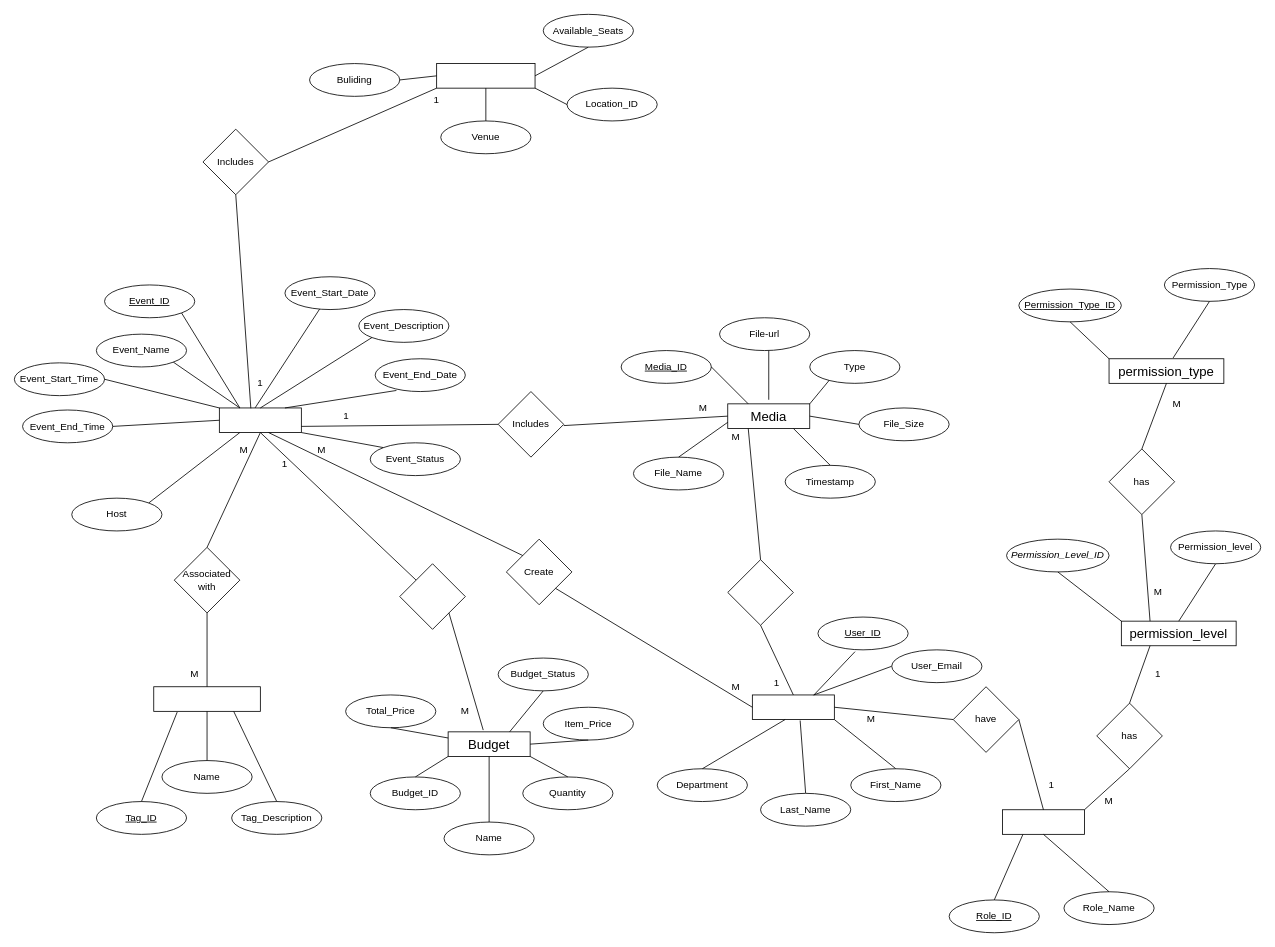
Some shapes in this 1275 by 947 pixel diagram are drawn without their labels. The box of each missing label's shape, as (x1, y1, x2, y2) in pixels:
Event location: (436, 63, 535, 88)
Events: (219, 407, 301, 433)
request: (399, 563, 465, 629)
Role: (1002, 809, 1084, 834)
Tags/categories: (153, 686, 260, 711)
Upload: (727, 559, 793, 625)
Users: (752, 694, 834, 720)
